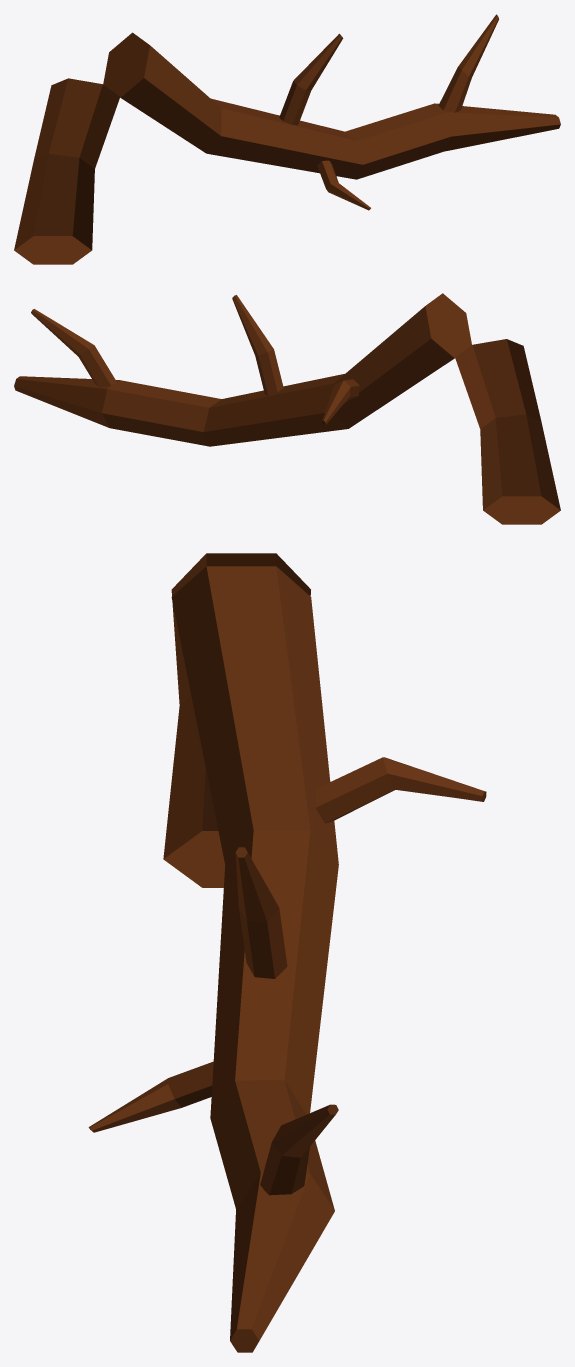
The model's file is tree_dead_2.fbx.
3 renders of one model, top to bottom at view 1: azimuth 30°, elevation 25°; view 2: azimuth 150°, elevation 25°; view 3: azimuth 270°, elevation 25°, orthographic. The views are drawn at different scales.
Visible parts, largest first — view 1: badtree.002; view 2: badtree.002; view 3: badtree.002.
Boxes of the visible parts, bbox=[...] form: badtree.002: bbox=[14, 14, 560, 264]; badtree.002: bbox=[14, 293, 560, 524]; badtree.002: bbox=[88, 553, 486, 1352].
Size of the model in its own units: 158 by 54.12 by 51.03.
